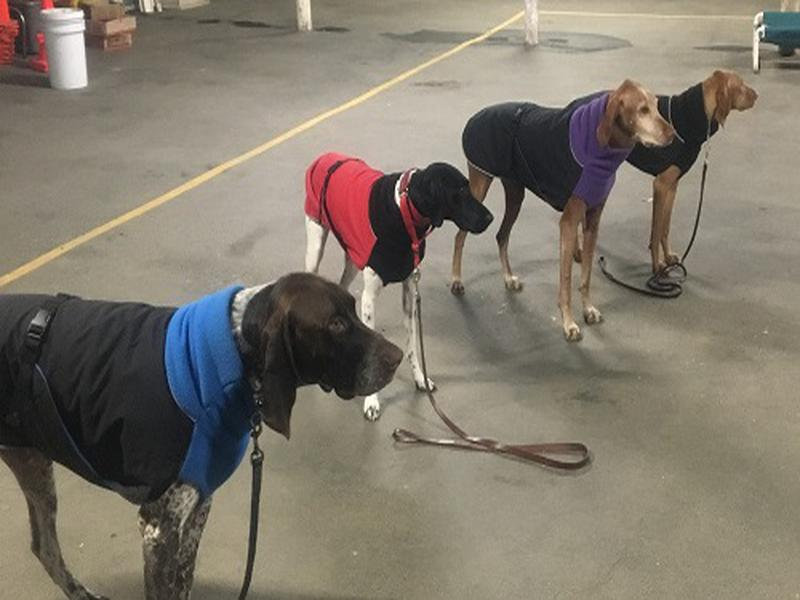dog_stand: (2, 270, 407, 600), (452, 76, 675, 342), (295, 147, 498, 421)
